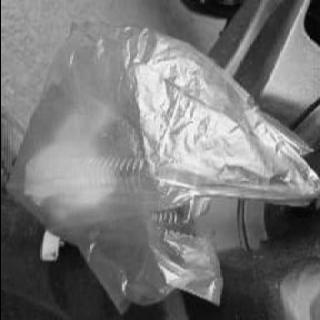objects: (16, 30, 306, 302)
